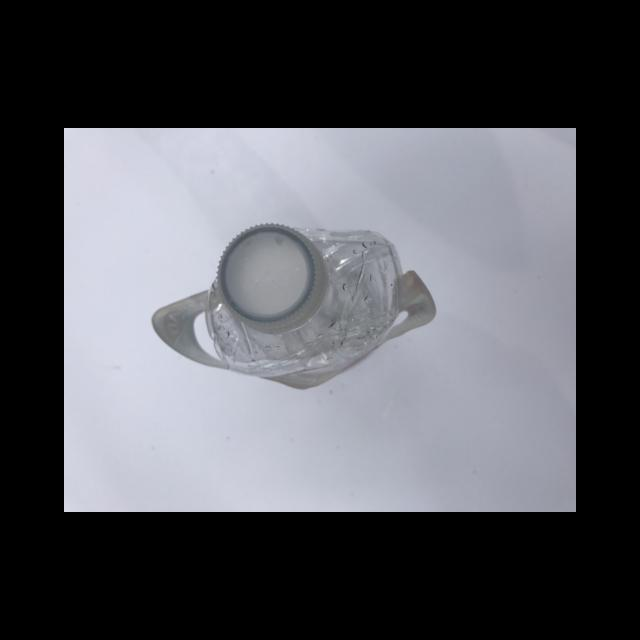plastic: (150, 221, 435, 389), (214, 222, 324, 332)
